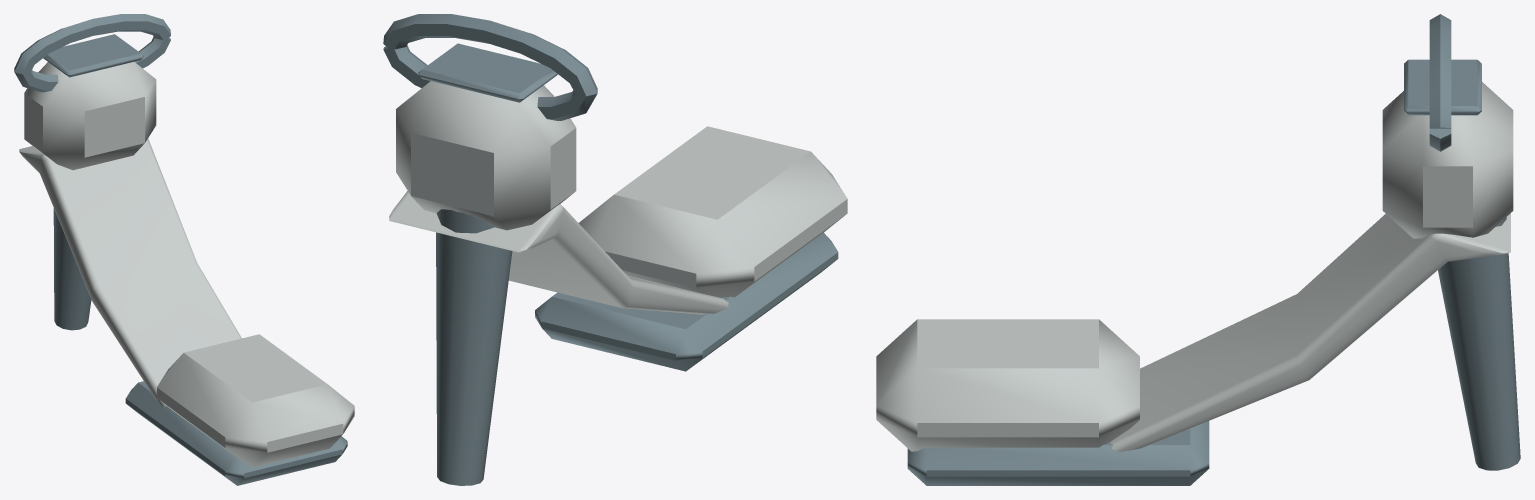
The model's file is high-heel.glb.
3 views of the same model, side by side, from view 1: azimuth 30°, elevation 25°; view 2: azimuth 150°, elevation 25°; view 3: azimuth 270°, elevation 25° (orthographic). The views are drawn at different scales.
Visible parts, largest first — view 1: arched_sole, toe_upper, heel_cup, forefoot_sole, ankle_strap, stiletto_heel, insole; view 2: toe_upper, heel_cup, stiletto_heel, forefoot_sole, arched_sole, ankle_strap, insole; view 3: toe_upper, arched_sole, heel_cup, stiletto_heel, forefoot_sole, insole, ankle_strap.
Boxes of the visible parts, box(x1,y1,x2,y2) form: arched_sole: box(19, 138, 241, 406); toe_upper: box(157, 334, 354, 466); heel_cup: box(24, 62, 156, 170); forefoot_sole: box(125, 381, 347, 485); ankle_strap: box(14, 14, 170, 92); stiletto_heel: box(53, 208, 91, 330); insole: box(43, 34, 143, 77); toe_upper: box(579, 126, 847, 297); heel_cup: box(396, 81, 576, 230); stiletto_heel: box(436, 209, 512, 485); forefoot_sole: box(535, 232, 838, 371); arched_sole: box(389, 191, 728, 314); ankle_strap: box(383, 14, 597, 120); insole: box(418, 43, 557, 102); toe_upper: box(876, 319, 1139, 451); arched_sole: box(1110, 213, 1510, 451); heel_cup: box(1382, 82, 1513, 238); stiletto_heel: box(1438, 217, 1520, 470); forefoot_sole: box(907, 421, 1209, 485); insole: box(1404, 59, 1481, 115); ankle_strap: box(1429, 14, 1451, 151).
Bounding box in the file's own units: 0.0953 × 0.187 × 0.2564.
